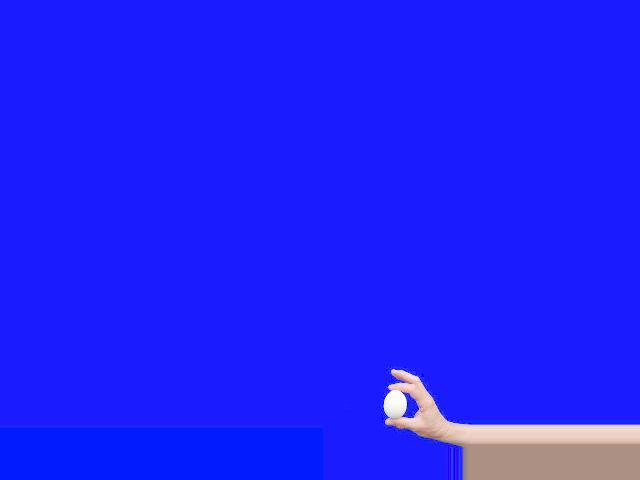egg: (383, 389, 406, 419)
